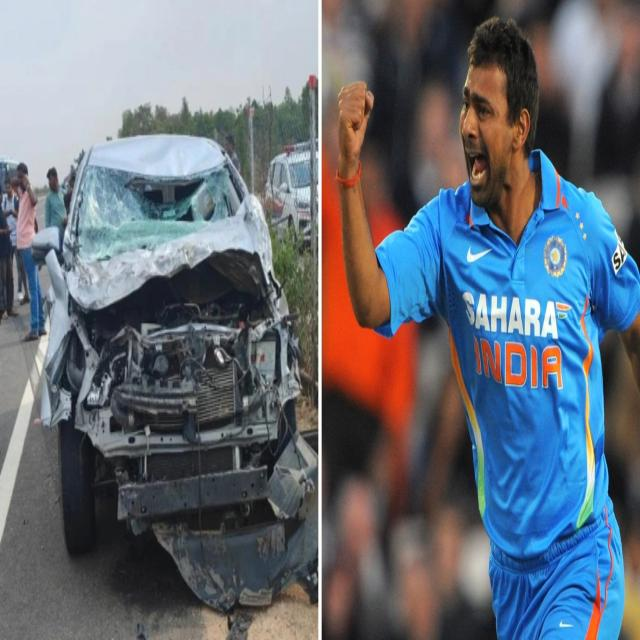accident: (41, 136, 316, 606)
